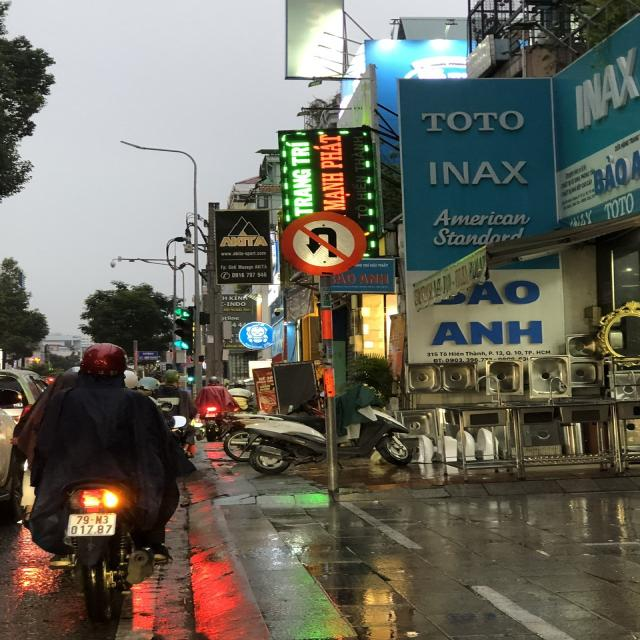Bien bao cam quay dau xe: (274, 208, 369, 279)
